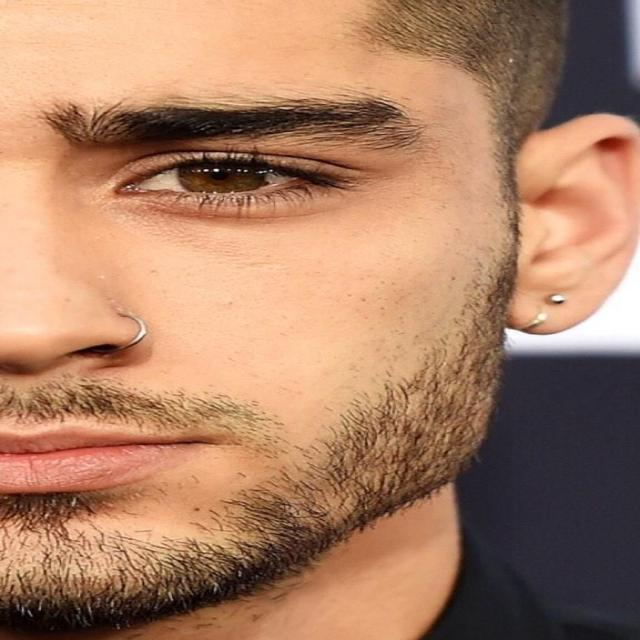Earring: (507, 255, 575, 343)
